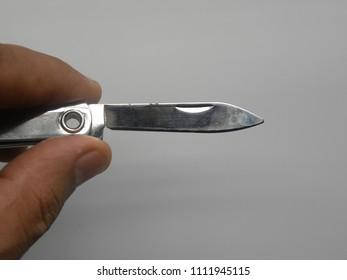Knife: (0, 42, 112, 260), (1, 41, 112, 259), (0, 100, 266, 151)
